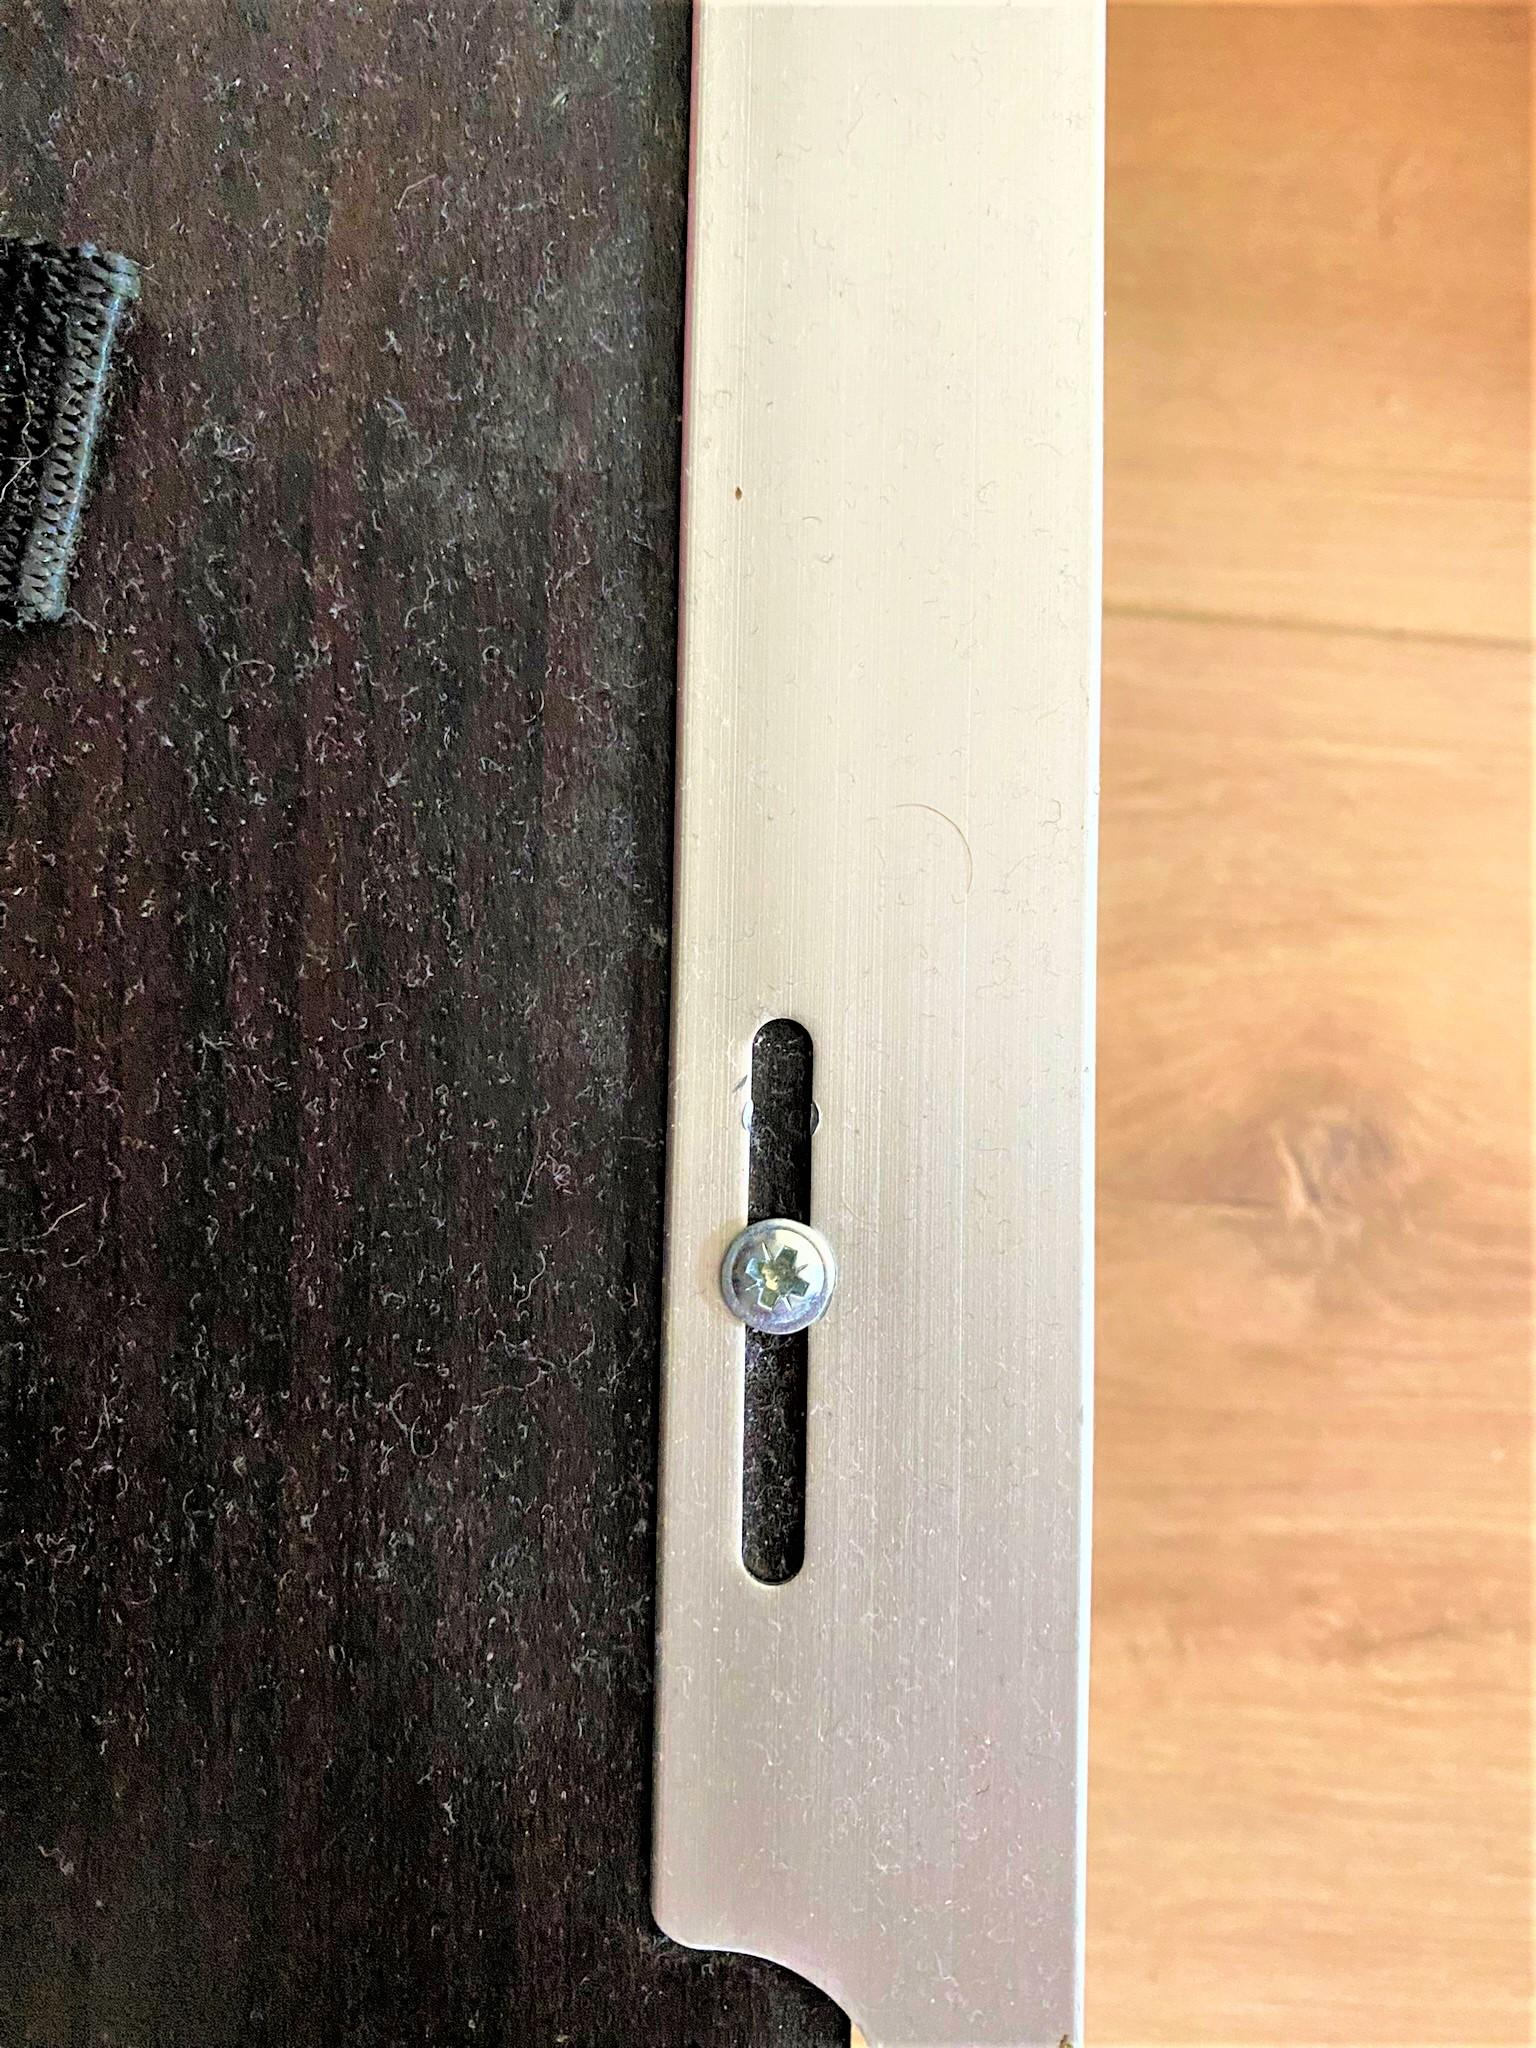PH: (720, 1216, 837, 1340)
